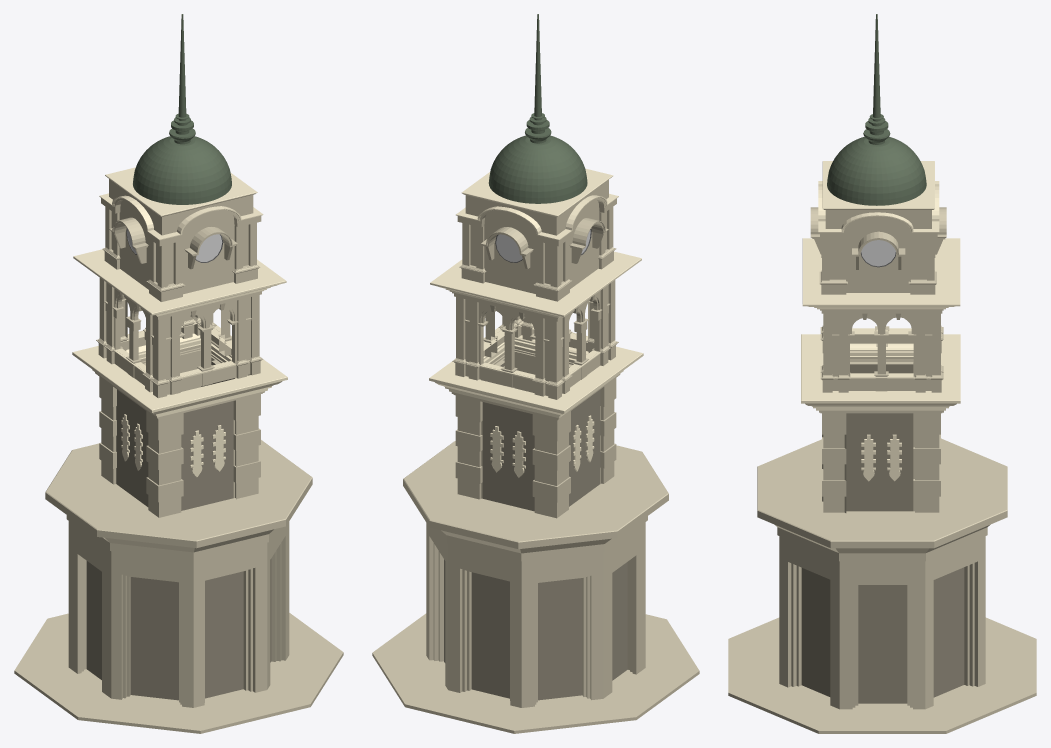
The model's file is clocktower_obj.obj.
3 renders of one model, left to right at view 1: azimuth 30°, elevation 25°; view 2: azimuth 150°, elevation 25°; view 3: azimuth 270°, elevation 25°, orthographic.
Parts seen in each view (by area): view 1: clock_tower_layer1; view 2: clock_tower_layer1; view 3: clock_tower_layer1.
Part boxes in pixels (left/top/right/bottom): clock_tower_layer1: left=14, top=14, right=343, bottom=733; clock_tower_layer1: left=372, top=14, right=699, bottom=733; clock_tower_layer1: left=728, top=14, right=1036, bottom=733.
Size of the model in its own units: 18.18 by 42.64 by 18.18.
